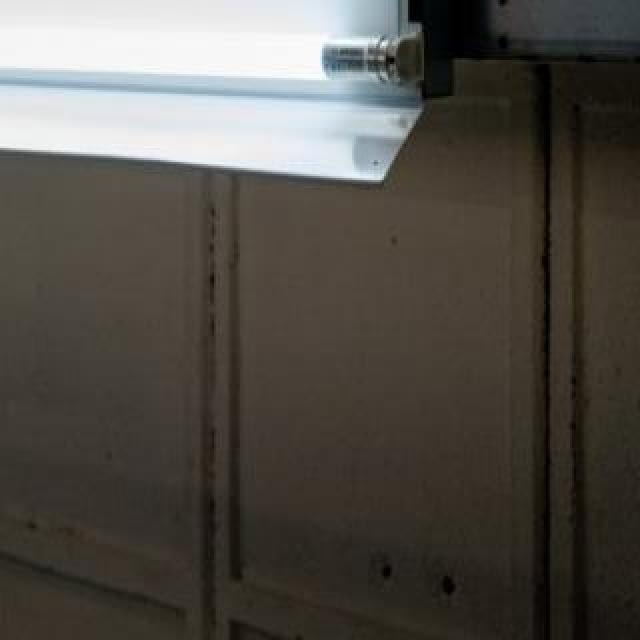fluorescent tube: (0, 6, 434, 102), (0, 0, 426, 6)
